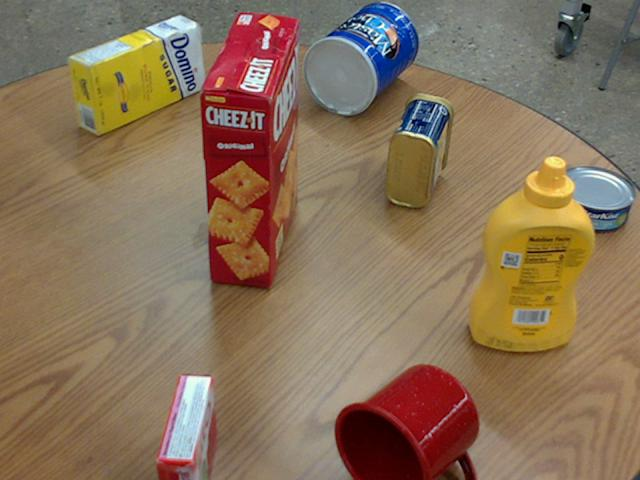cracker_box: (200, 12, 301, 286)
gelatin_box: (149, 375, 212, 479)
master_chef_can: (301, 2, 417, 114)
mug: (331, 365, 477, 479)
mustard_bottle: (467, 156, 592, 350)
potted_meat_can: (385, 93, 452, 206)
sugar_box: (67, 14, 202, 133)
tuna_fish_can: (551, 165, 632, 232)
